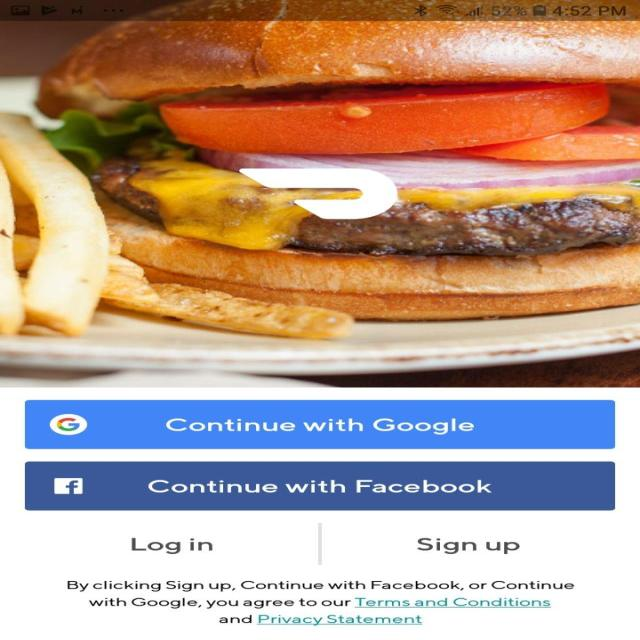Image: (0, 21, 638, 387), (238, 167, 398, 219)
Text: (66, 580, 574, 626), (416, 537, 520, 554), (130, 537, 212, 554)
TextButton: (24, 400, 614, 449), (24, 461, 614, 510)
